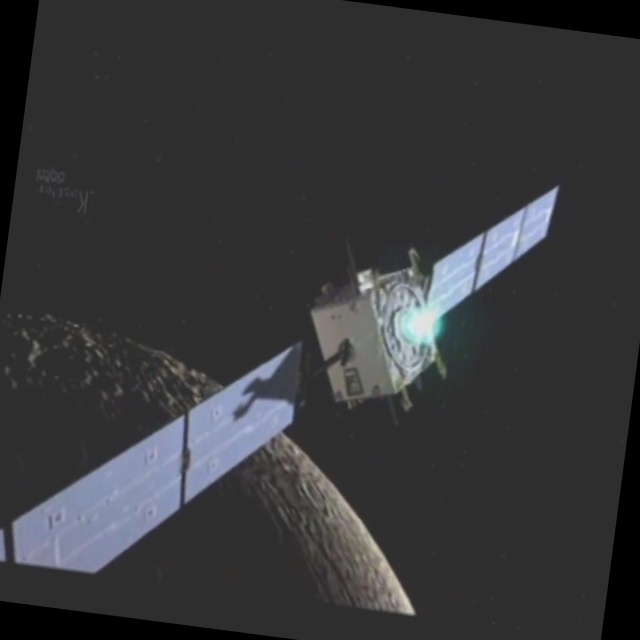large_debris: (0, 301, 488, 640)
satellite: (0, 65, 598, 640)
